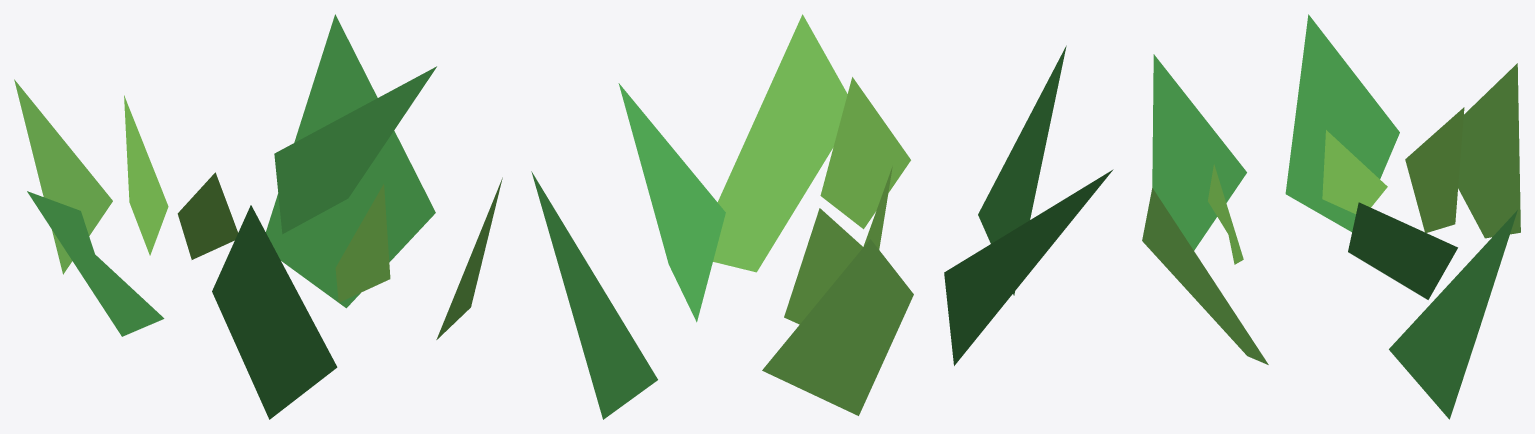
Rendered from potatoe_stage_1.glb.
3 views of the same model, side by side, from view 1: azimuth 30°, elevation 25°; view 2: azimuth 150°, elevation 25°; view 3: azimuth 270°, elevation 25° (orthographic). The views are drawn at different scales.
Visible parts, largest first — view 1: Plane.060, Plane.066, Plane.067, Plane.064, Plane.059, Plane.063, Plane.028, Plane.031, Plane.055; view 2: Plane.055, Plane.064, Plane.067, Plane.059, Plane.060, Plane.063, Plane.066, Plane.028, Plane.031; view 3: Plane.059, Plane.066, Plane.060, Plane.064, Plane.067, Plane.055, Plane.028, Plane.031, Plane.063.
Boxes of the visible parts, left/top/right/bottom form: Plane.060: left=266, top=14, right=435, bottom=308; Plane.066: left=212, top=205, right=337, bottom=419; Plane.067: left=274, top=66, right=436, bottom=234; Plane.064: left=14, top=79, right=112, bottom=274; Plane.059: left=27, top=191, right=164, bottom=336; Plane.063: left=335, top=184, right=390, bottom=302; Plane.028: left=124, top=95, right=168, bottom=255; Plane.031: left=177, top=172, right=237, bottom=259; Plane.055: left=436, top=177, right=502, bottom=339; Plane.055: left=713, top=14, right=847, bottom=272; Plane.064: left=762, top=239, right=913, bottom=415; Plane.067: left=618, top=83, right=725, bottom=322; Plane.059: left=944, top=169, right=1113, bottom=365; Plane.060: left=531, top=171, right=657, bottom=419; Plane.063: left=820, top=77, right=910, bottom=229; Plane.066: left=978, top=45, right=1066, bottom=295; Plane.028: left=784, top=208, right=863, bottom=324; Plane.031: left=863, top=166, right=892, bottom=249; Plane.059: left=1285, top=14, right=1399, bottom=231; Plane.066: left=1152, top=54, right=1246, bottom=250; Plane.060: left=1389, top=210, right=1517, bottom=419; Plane.064: left=1458, top=63, right=1520, bottom=238; Plane.067: left=1348, top=202, right=1457, bottom=299; Plane.055: left=1142, top=188, right=1268, bottom=364; Plane.028: left=1405, top=107, right=1464, bottom=232; Plane.031: left=1322, top=130, right=1387, bottom=214; Plane.063: left=1208, top=164, right=1243, bottom=264.
Bounding box in the file's own units: 0.6666 × 0.4122 × 0.5575.
